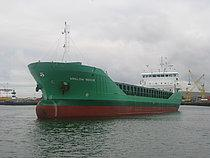Ship: (23, 32, 187, 120)
